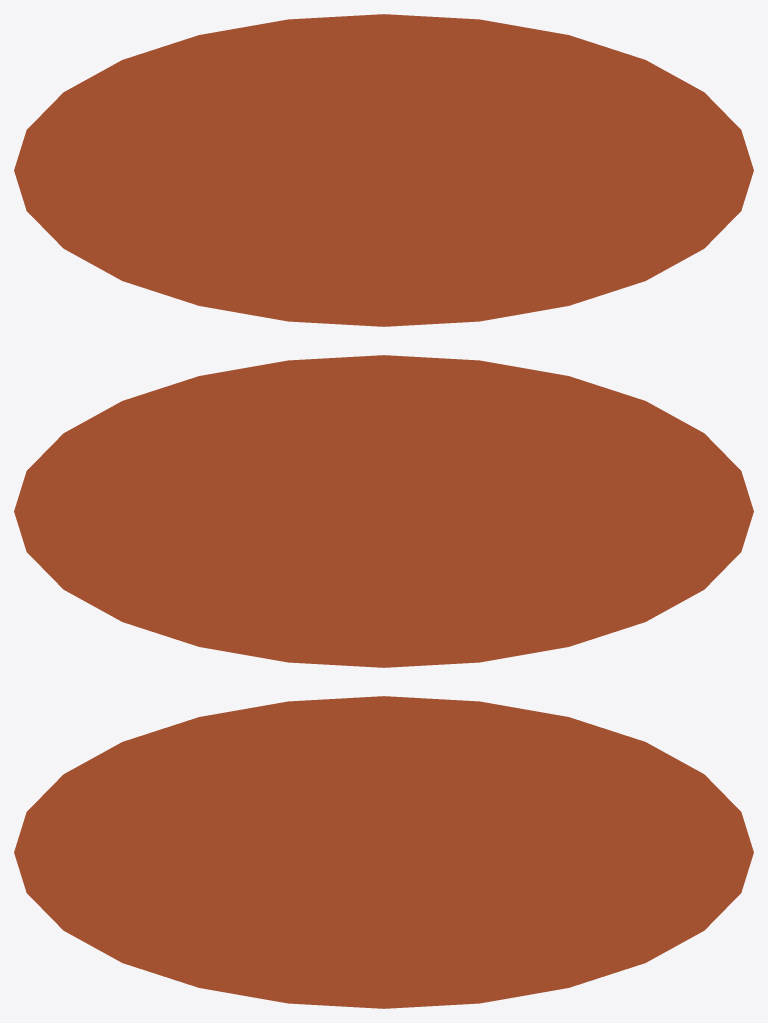
Rendered from tomato_sauce.glb.
3 renders of one model, top to bottom at view 1: azimuth 30°, elevation 25°; view 2: azimuth 150°, elevation 25°; view 3: azimuth 270°, elevation 25°, orthographic.
Visible parts, largest first — view 1: sauce_tomato; view 2: sauce_tomato; view 3: sauce_tomato.
Boxes of the visible parts, x1,y1,x2,y2 form: sauce_tomato: (14,14,753,326); sauce_tomato: (14,355,753,667); sauce_tomato: (14,696,753,1008).
Bounding box in the file's own units: 0.3743 × 8.31e-17 × 0.3743.
